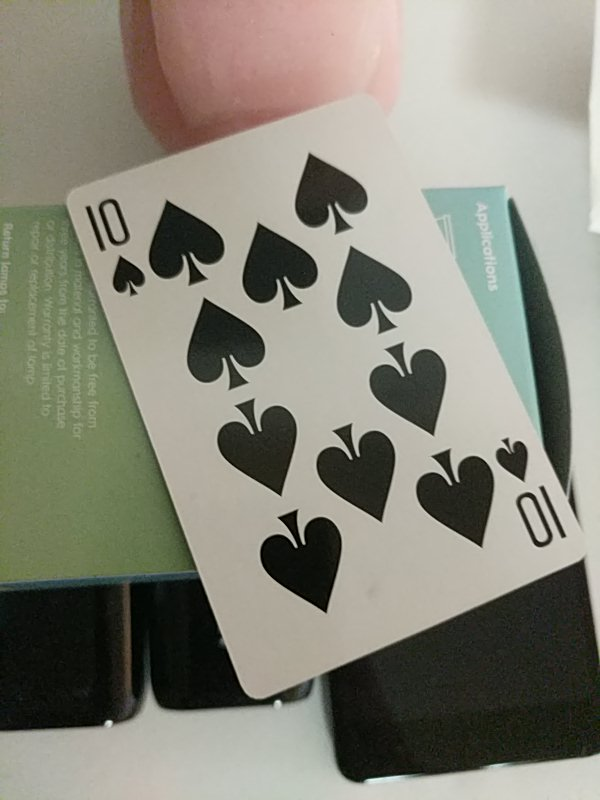Spades: (66, 95, 593, 701)
